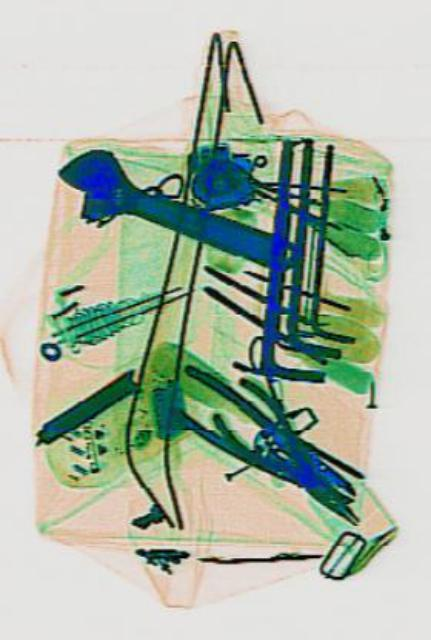Pliers: (164, 355, 363, 527), (205, 364, 372, 552)
Wrench: (46, 131, 301, 297)
